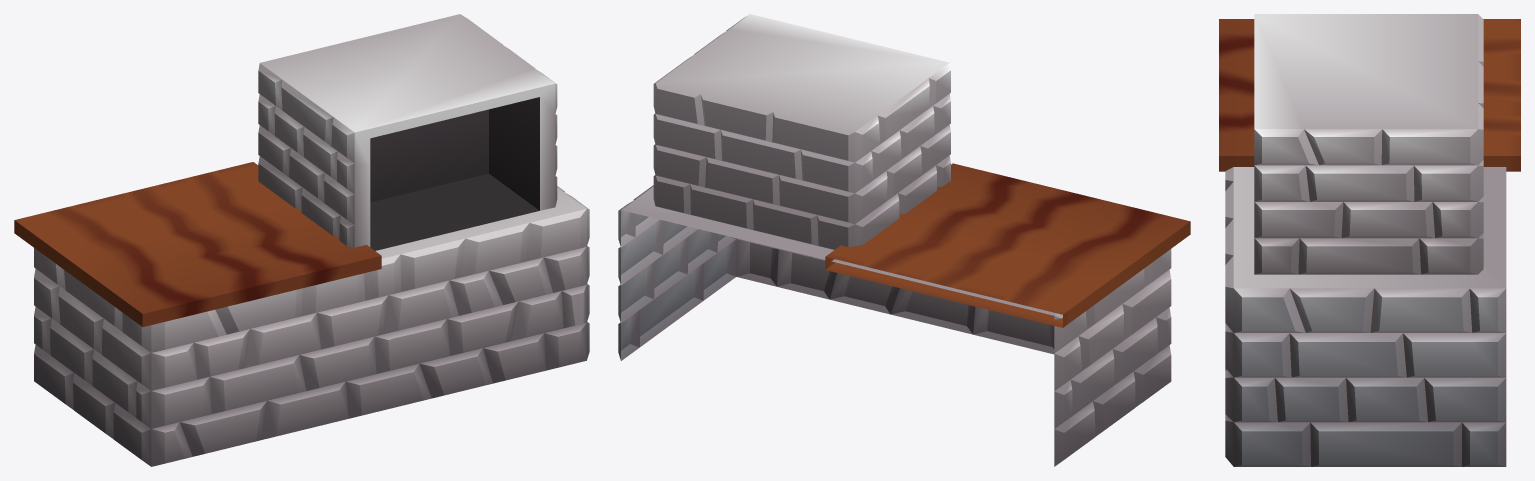
Rendered from Furnace.fbx.
The picture shows the model from 3 angles, left to right: view 1: azimuth 30°, elevation 25°; view 2: azimuth 150°, elevation 25°; view 3: azimuth 270°, elevation 25°; orthographic projection. The views are drawn at different scales.
Visible parts, largest first — view 1: Furnace_Base, furnace outer, Furnace counter, furnace inner; view 2: furnace outer, Furnace_Base, Furnace counter; view 3: Furnace_Base, furnace outer, Furnace counter.
Part boxes in pixels (box(x1,y1,x2,y2)): Furnace_Base: box(34, 186, 589, 466); furnace outer: box(258, 14, 557, 247); Furnace counter: box(14, 162, 381, 326); furnace inner: box(370, 97, 539, 250); furnace outer: box(653, 14, 950, 249); Furnace_Base: box(618, 185, 1171, 466); Furnace counter: box(825, 163, 1190, 327); Furnace_Base: box(1225, 167, 1506, 466); furnace outer: box(1254, 14, 1483, 274); Furnace counter: box(1219, 19, 1520, 171).
Size of the model in its own units: 629 by 364 by 306.
